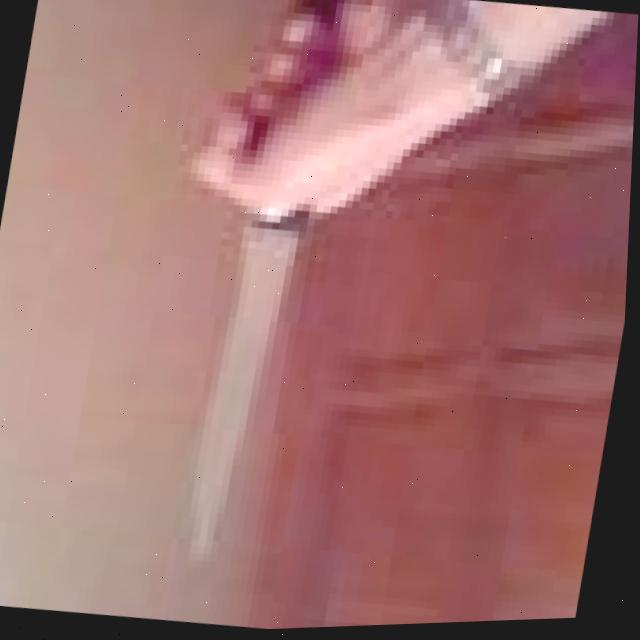knife: (180, 200, 315, 573)
